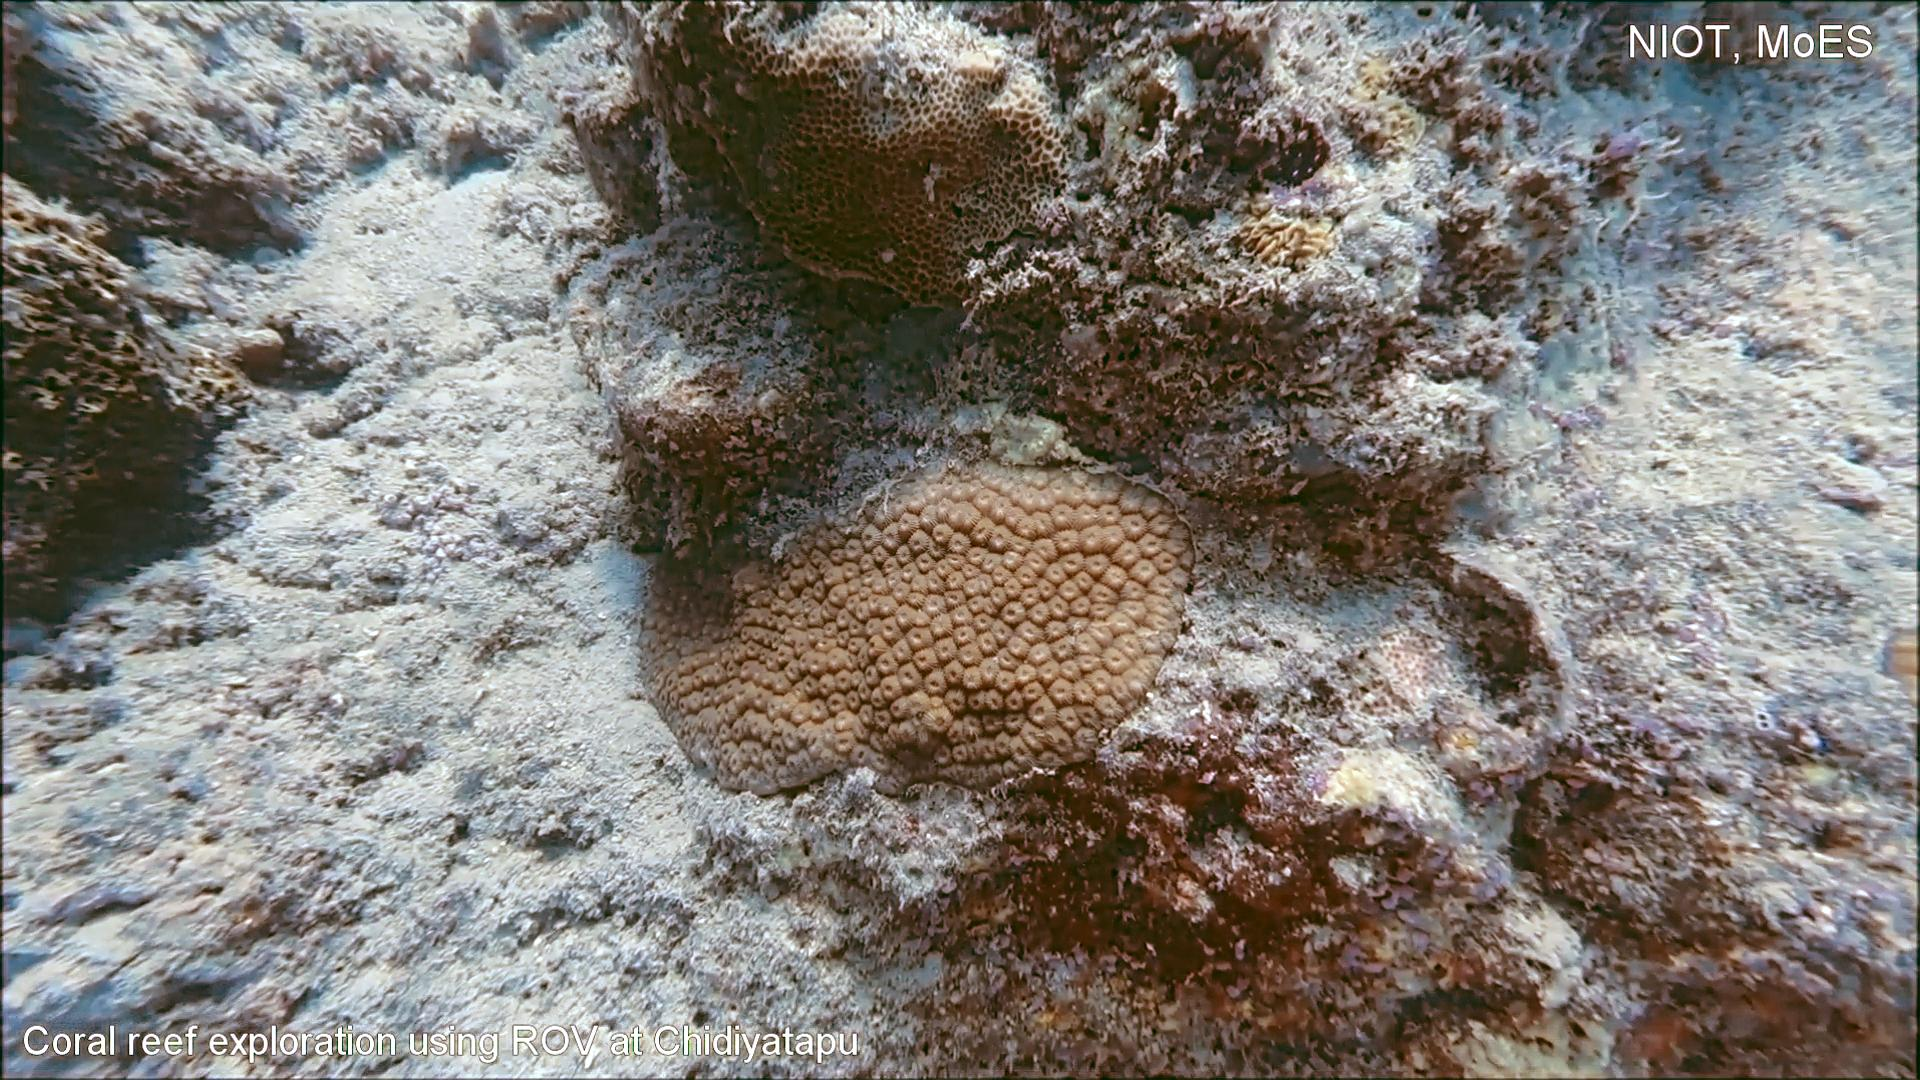Montastraea: (634, 452, 1205, 808)
